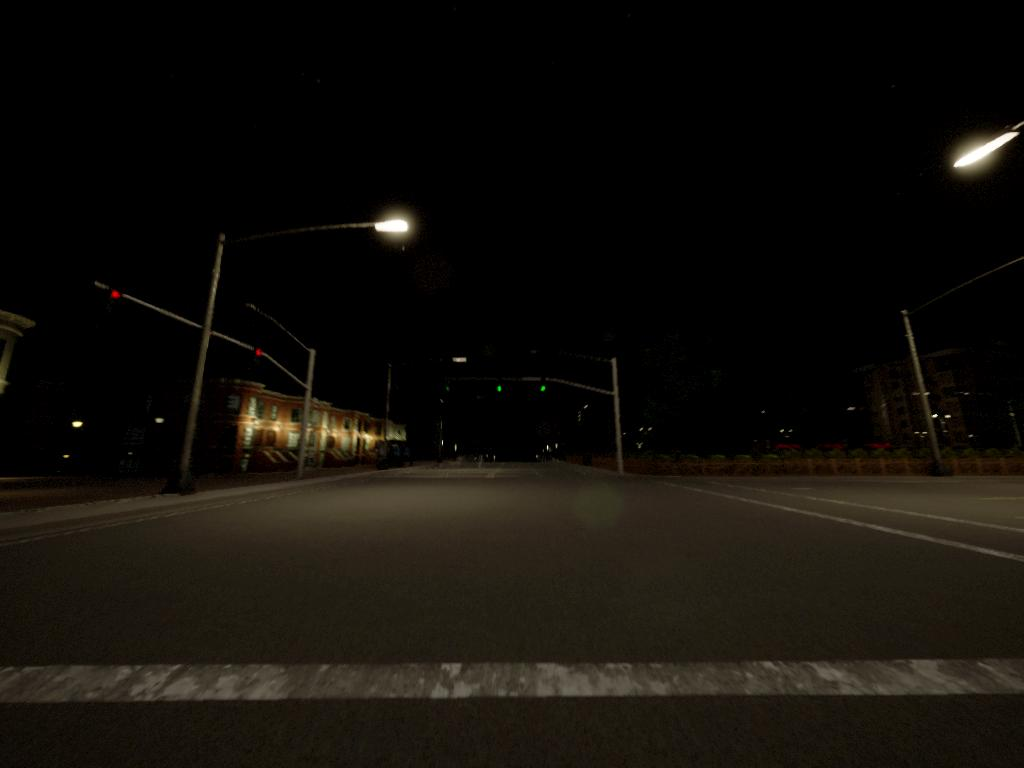traffic_light: (110, 287, 122, 324), (254, 347, 265, 371), (539, 378, 550, 399), (444, 383, 455, 397), (496, 382, 506, 396)
